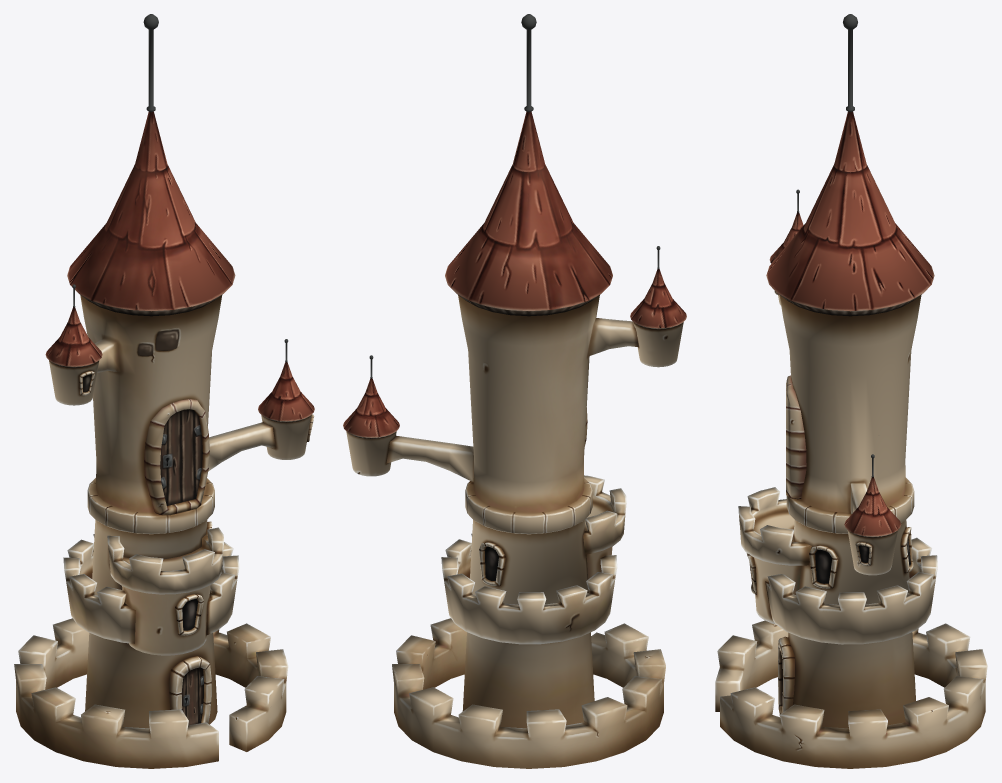
File: Tower.gltf
3 renders of one model, left to right at view 1: azimuth 30°, elevation 25°; view 2: azimuth 150°, elevation 25°; view 3: azimuth 270°, elevation 25°, orthographic.
Parts seen in each view (by area): view 1: Wall; view 2: Wall; view 3: Wall.
Part boxes in pixels (bbox=[...]): Wall: bbox=[14, 14, 314, 768]; Wall: bbox=[343, 14, 686, 768]; Wall: bbox=[715, 14, 987, 768].
Bounding box in the file's own units: 5.21 × 11.61 × 4.11.
1 material, 1 textured.
